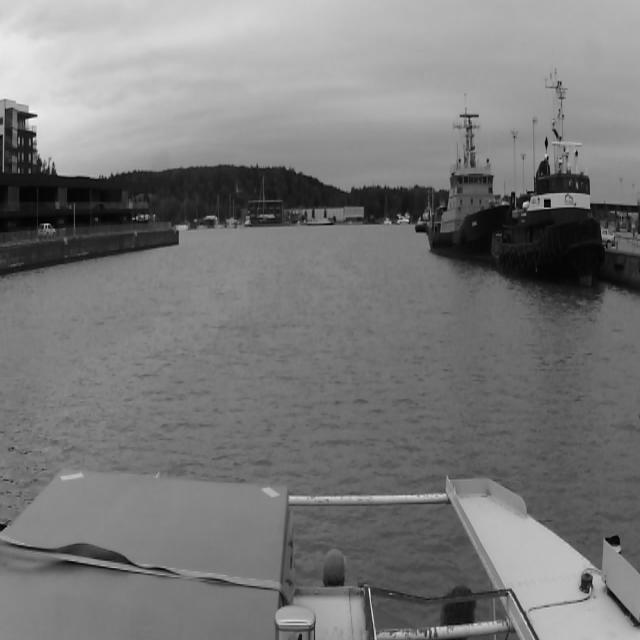ship: (491, 74, 609, 276), (428, 92, 492, 258), (254, 169, 274, 217), (416, 210, 428, 232)
